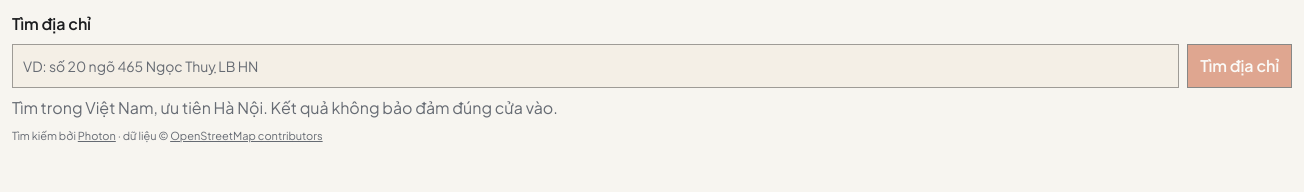
rejects empty or malformed results: [{"id":"one","lat":null,"lng":105.86,"address":"Ngọc Thụy","precision":"area"}]
Type "Ngọc Thụy" into the field labelled "Tìm địa chỉ" at (596, 66), box [12, 44, 1179, 88]
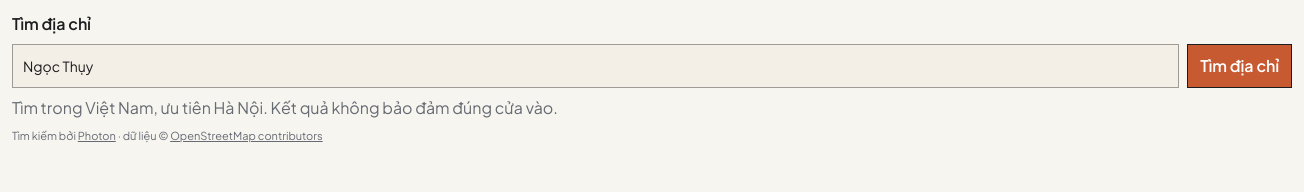
Click the button "Tìm địa chỉ" at (1240, 66), box [1187, 44, 1292, 88]
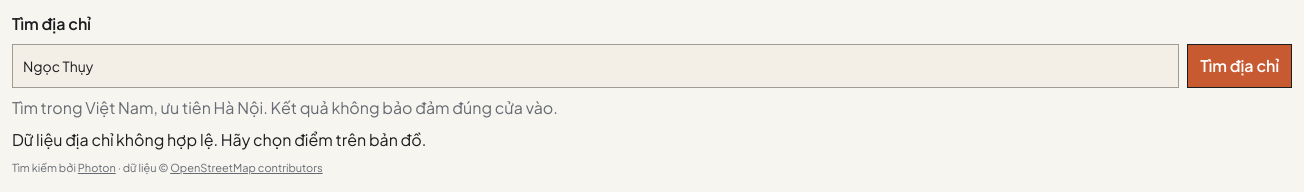
Expected: the message shows "Dữ liệu địa chỉ không hợp lệ", [12, 129, 426, 150]
